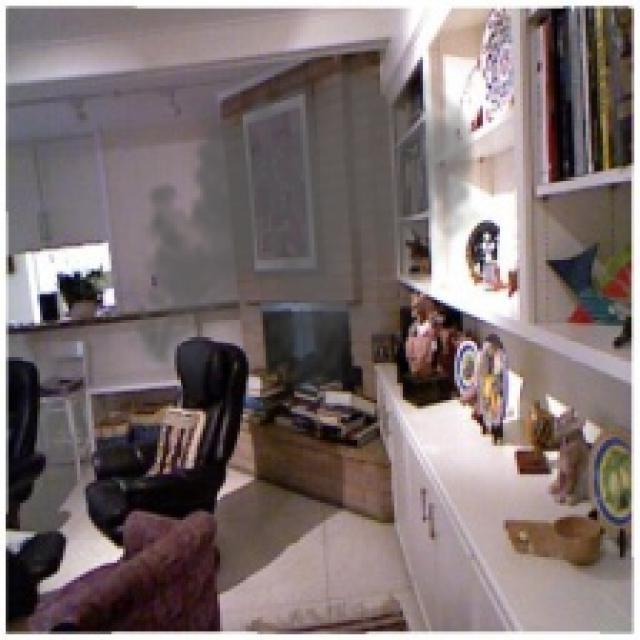Smoke: (123, 40, 483, 406)
